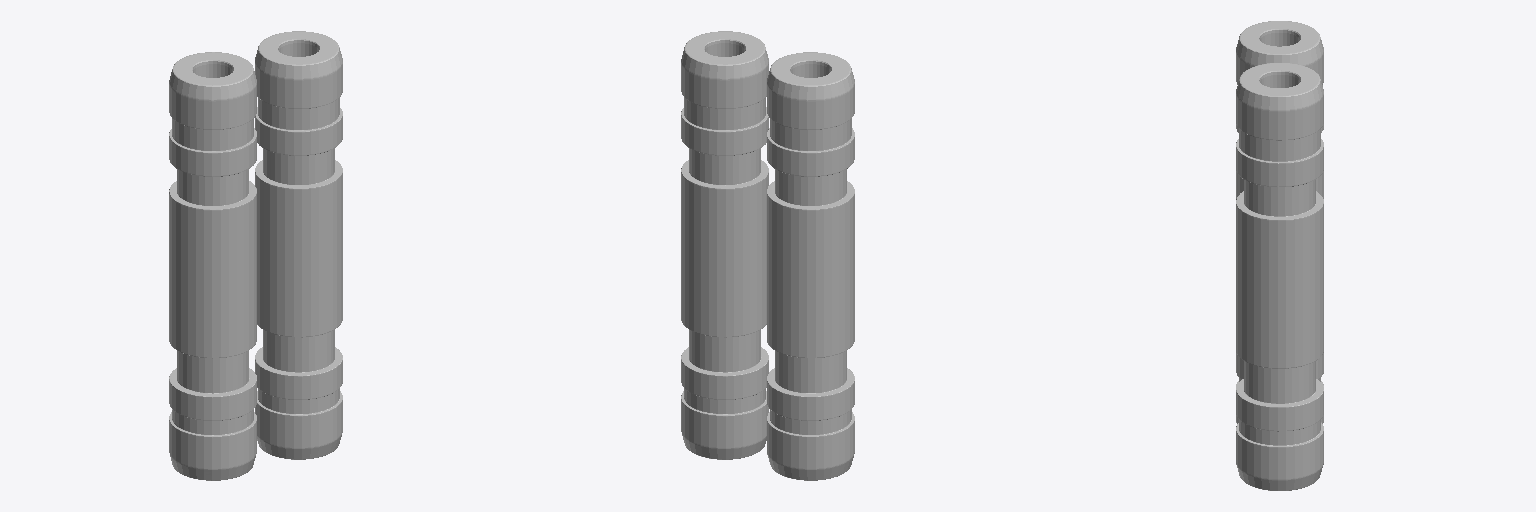
Rendered from decoracion2.OBJ.
The picture shows the model from 3 angles: view 1: azimuth 30°, elevation 25°; view 2: azimuth 150°, elevation 25°; view 3: azimuth 270°, elevation 25°; orthographic projection.
Visible parts, largest first — view 1: Group17495; view 2: Group17495; view 3: Group17495.
Boxes of the visible parts, <box> form: Group17495: <box>169,31,342,480</box>; Group17495: <box>681,31,854,480</box>; Group17495: <box>1236,21,1323,490</box>.
Bounding box in the file's own units: 1.7 × 3.95 × 0.7993.